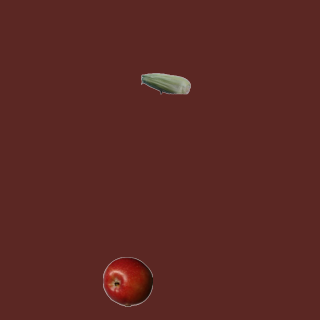Apple Braeburn: (102, 256, 152, 306)
Corn Husk: (140, 58, 190, 108)
